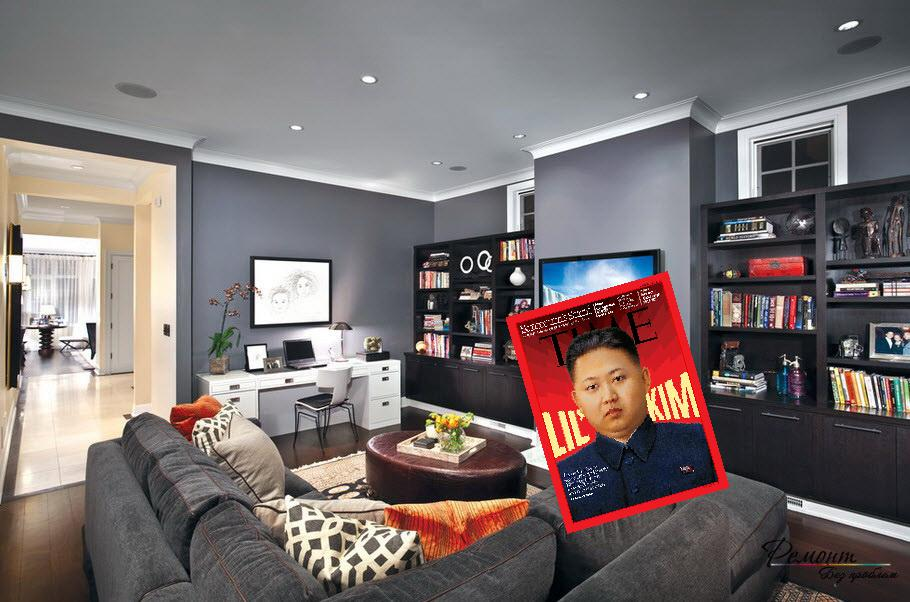times: (505, 269, 730, 534)
